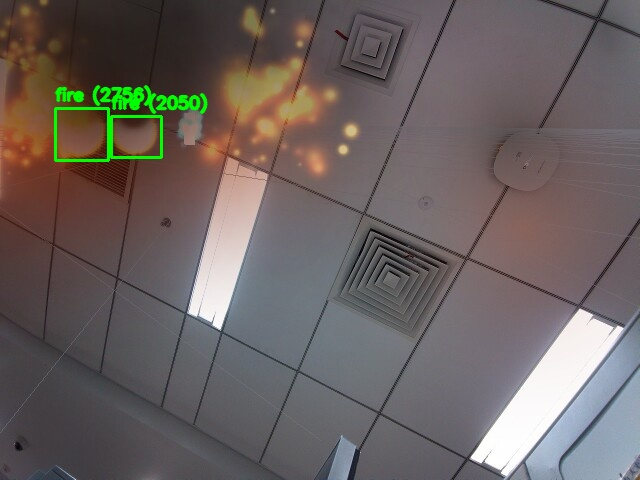fire: (55, 108, 108, 160), (111, 116, 161, 157)
